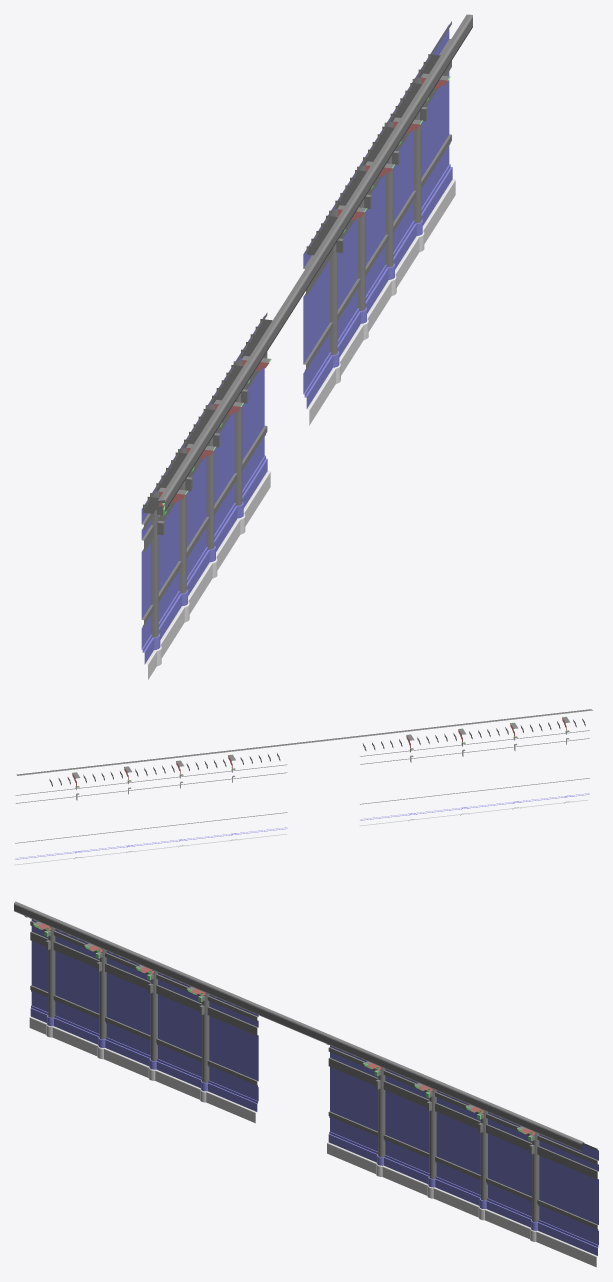
The model's file is SM_ENV_LKNVLD_WallSet_BendPlus.gltf.
3 views of the same model, one above another, from view 1: azimuth 30°, elevation 25°; view 2: azimuth 150°, elevation 25°; view 3: azimuth 270°, elevation 25° (orthographic). The views are drawn at different scales.
Parts seen in each view (by area): view 1: SM_ENV_LKNVLD_WallSet_BendPlus; view 2: SM_ENV_LKNVLD_WallSet_BendPlus; view 3: SM_ENV_LKNVLD_WallSet_BendPlus.
Boxes of the visible parts, <box> form: SM_ENV_LKNVLD_WallSet_BendPlus: <box>141,14,472,679</box>; SM_ENV_LKNVLD_WallSet_BendPlus: <box>14,709,592,865</box>; SM_ENV_LKNVLD_WallSet_BendPlus: <box>14,901,598,1267</box>.
Bounding box in the file's own units: 26.27 × 6.28 × 26.34.
